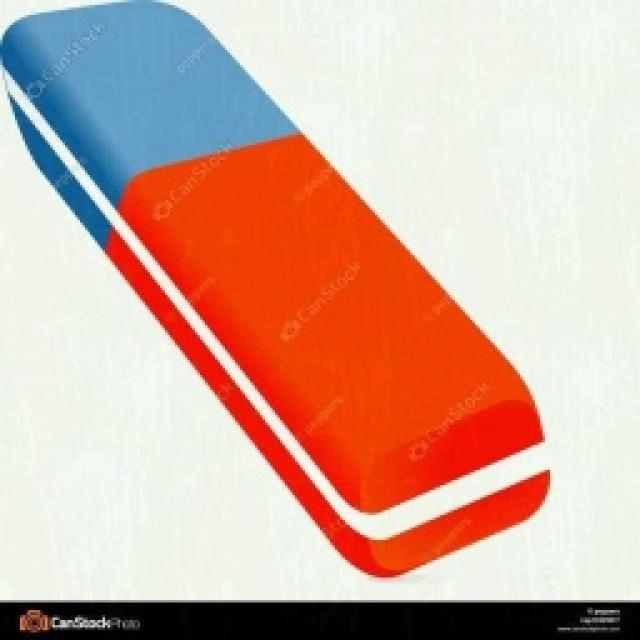Silgi: (1, 1, 554, 577)
